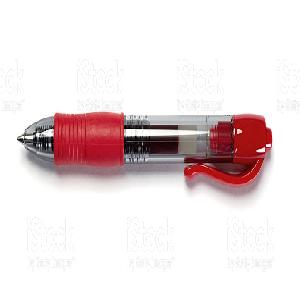pen: (10, 108, 277, 190)
